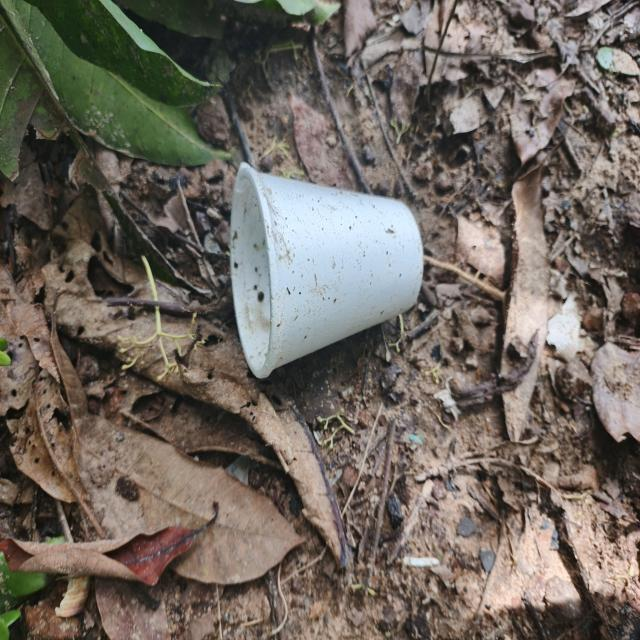plastic: (224, 146, 428, 392)
